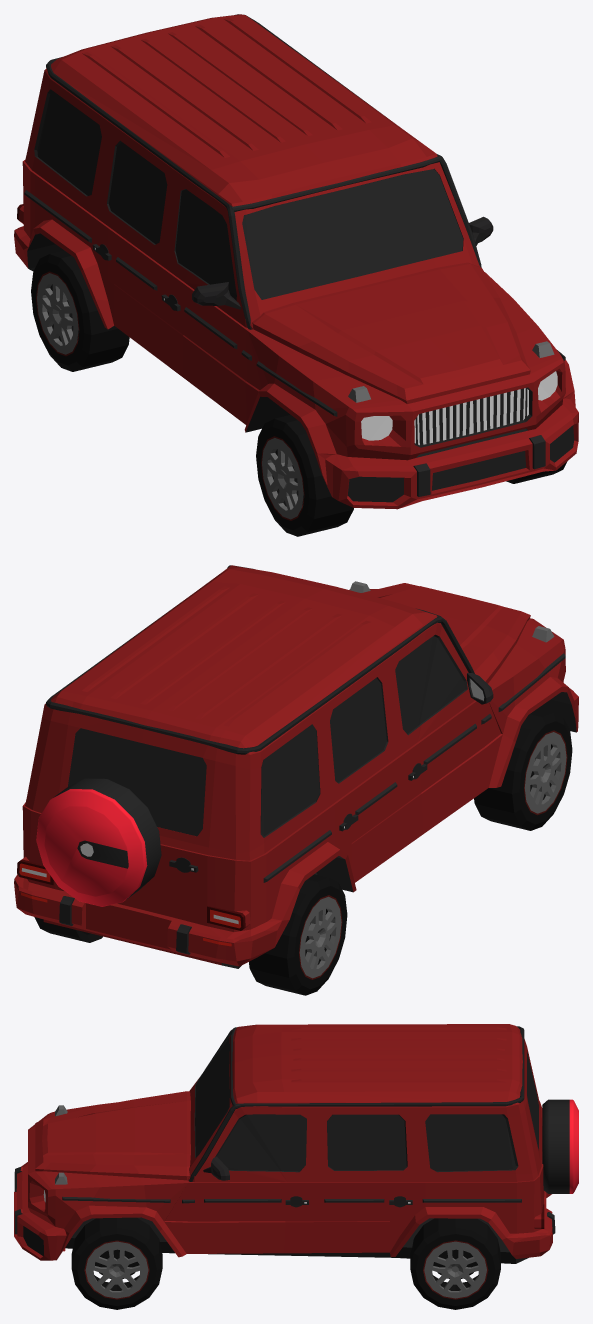
File: galinderwagon_eport.glb
The picture shows the model from 3 angles, top to bottom: view 1: azimuth 30°, elevation 25°; view 2: azimuth 150°, elevation 25°; view 3: azimuth 270°, elevation 25°; orthographic projection. The views are drawn at different scales.
Parts seen in each view (by area): view 1: body, front_wheel.002, front_wheel.004; view 2: body, front_wheel.004, front_wheel.002, front_wheel.001; view 3: body, front_wheel, front_wheel.001.
Part boxes in pixels (x1,y1,x2,y2): body: (14, 14, 578, 509); front_wheel.002: (31, 250, 129, 371); front_wheel.004: (256, 415, 353, 536); body: (14, 565, 578, 968); front_wheel.004: (474, 709, 572, 830); front_wheel.002: (249, 874, 347, 995); front_wheel.001: (34, 917, 102, 942); body: (14, 1024, 578, 1263); front_wheel: (71, 1217, 162, 1309); front_wheel.001: (410, 1218, 500, 1309).
Size of the model in its own units: 1.95 by 1.75 by 4.27.
